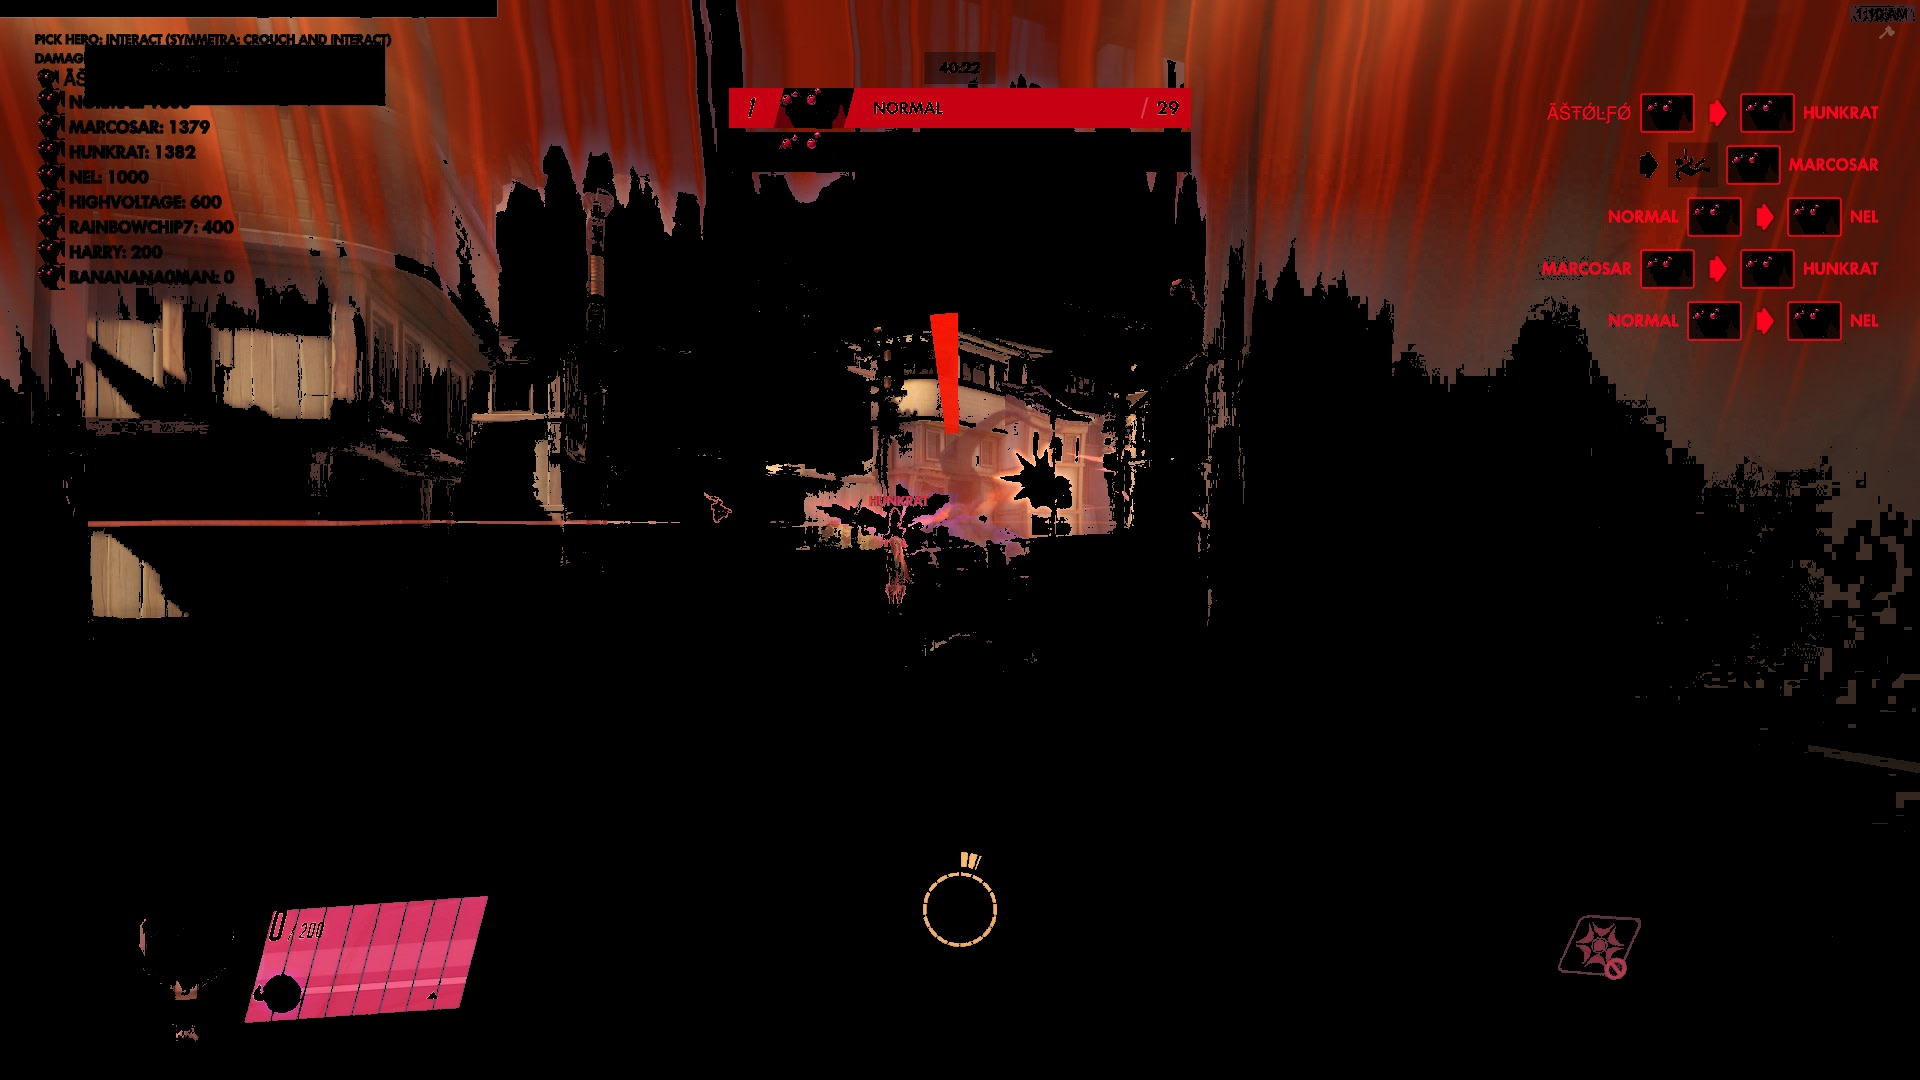widowmaker: (873, 506, 924, 620), (705, 493, 738, 526)
